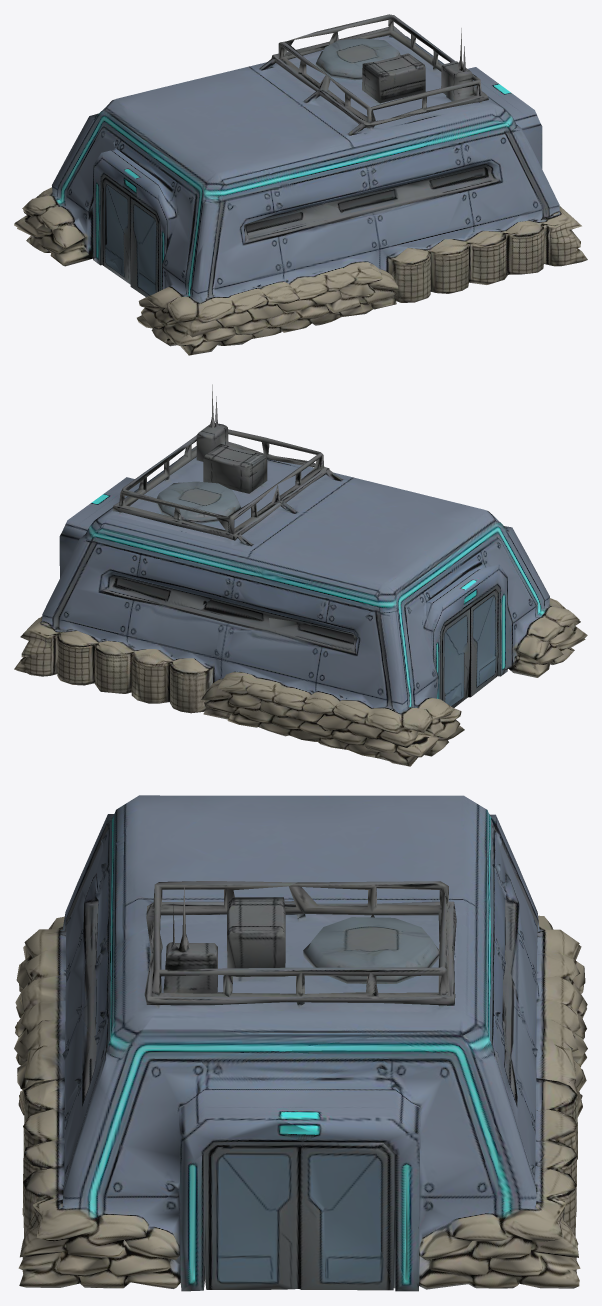
File: Barracks.glb
3 renders of one model, top to bottom at view 1: azimuth 30°, elevation 25°; view 2: azimuth 150°, elevation 25°; view 3: azimuth 270°, elevation 25°, orthographic. The views are drawn at different scales.
Visible parts, largest first — view 1: tripo_node_0fcfe4b3-406d-49cb-9709-beaa7c225e0a; view 2: tripo_node_0fcfe4b3-406d-49cb-9709-beaa7c225e0a; view 3: tripo_node_0fcfe4b3-406d-49cb-9709-beaa7c225e0a.
Boxes of the visible parts, <box> form: tripo_node_0fcfe4b3-406d-49cb-9709-beaa7c225e0a: <box>14,14,587,355</box>; tripo_node_0fcfe4b3-406d-49cb-9709-beaa7c225e0a: <box>14,384,587,766</box>; tripo_node_0fcfe4b3-406d-49cb-9709-beaa7c225e0a: <box>14,795,587,1291</box>.
Bounding box in the file's own units: 1 × 0.5651 × 0.7489.
1 material, 1 textured.
